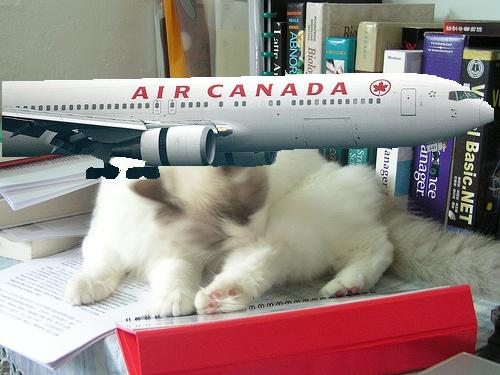tampered: (3, 71, 494, 179)
